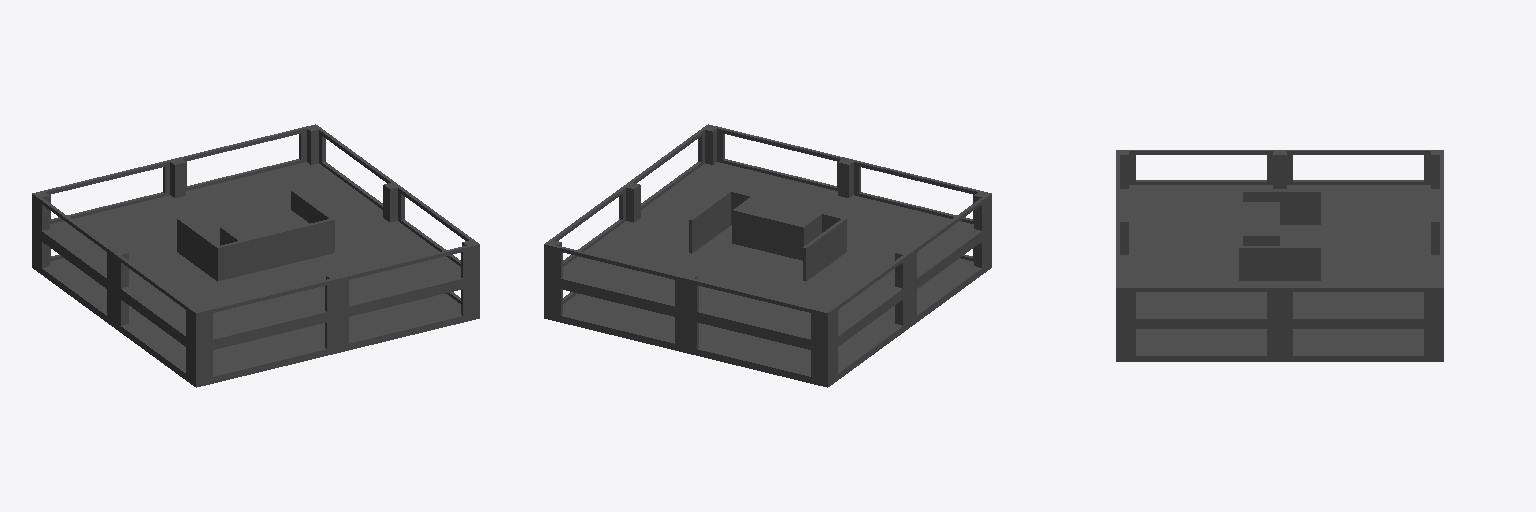
File: Office.obj
3 renders of one model, left to right at view 1: azimuth 30°, elevation 25°; view 2: azimuth 150°, elevation 25°; view 3: azimuth 270°, elevation 25°, orthographic.
Parts seen in each view (by area): view 1: Mesh_0.006; view 2: Mesh_0.006; view 3: Mesh_0.006.
Boxes of the visible parts, <box> form: Mesh_0.006: <box>32,124,479,387</box>; Mesh_0.006: <box>544,124,991,387</box>; Mesh_0.006: <box>1116,150,1443,361</box>.
Size of the model in its own units: 20 by 5 by 20.